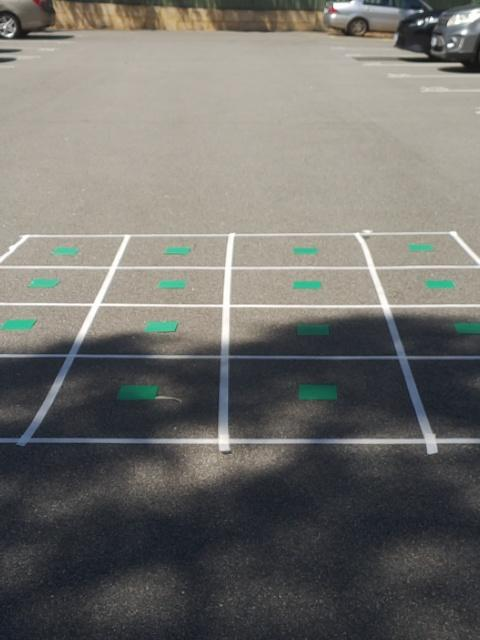weed: (293, 376, 344, 408), (113, 382, 163, 404), (293, 314, 332, 342), (418, 274, 462, 293), (446, 316, 480, 339), (1, 316, 39, 336), (26, 273, 64, 292), (290, 274, 326, 293), (162, 239, 194, 259), (156, 274, 184, 293), (141, 318, 174, 334), (50, 243, 80, 260), (291, 243, 319, 260), (407, 240, 432, 254)
